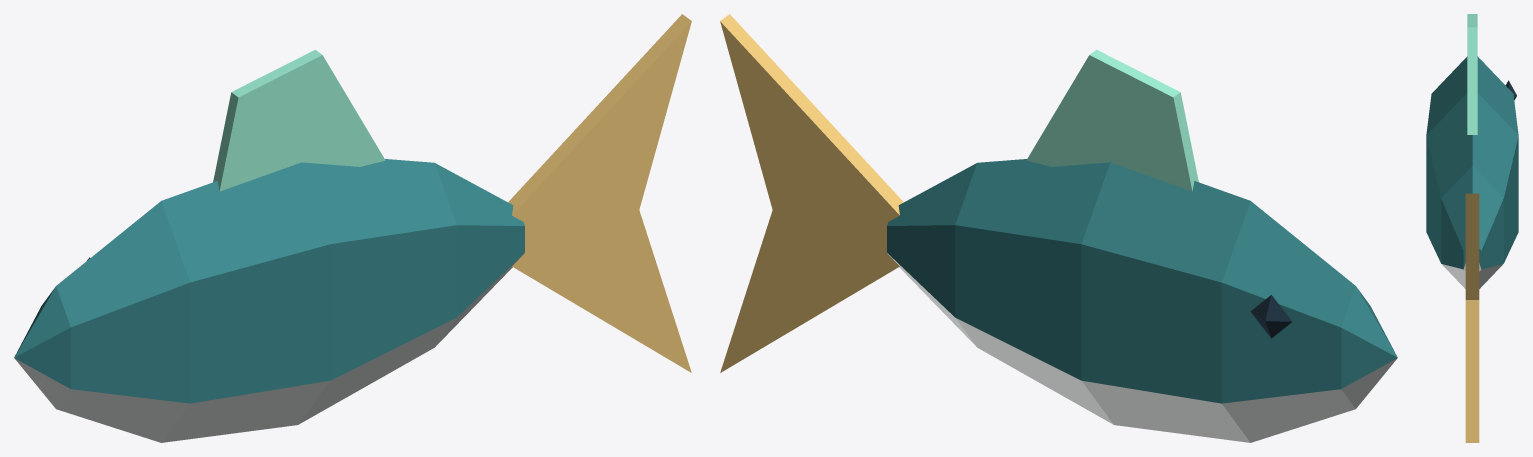
The model's file is Fish.obj.
The picture shows the model from 3 angles, left to right: view 1: azimuth 30°, elevation 25°; view 2: azimuth 150°, elevation 25°; view 3: azimuth 270°, elevation 25°; orthographic projection. The views are drawn at different scales.
Size of the model in its own units: 3.2 by 1.85 by 0.537.
